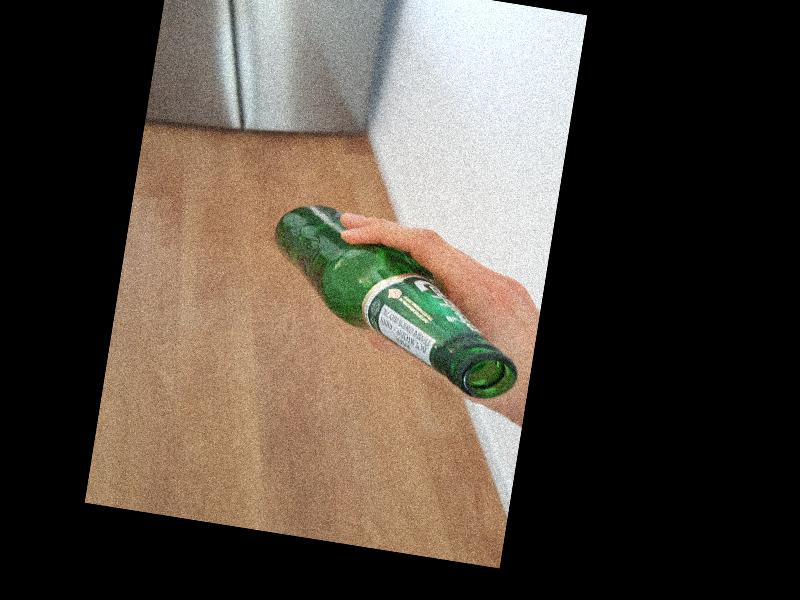Beer: (253, 199, 539, 404)
